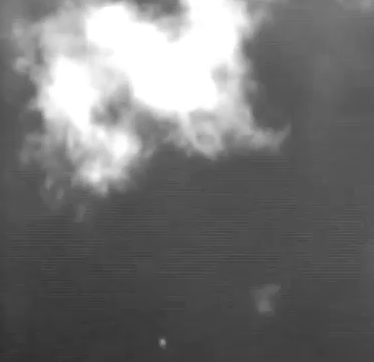Target: (161, 339, 166, 345)
